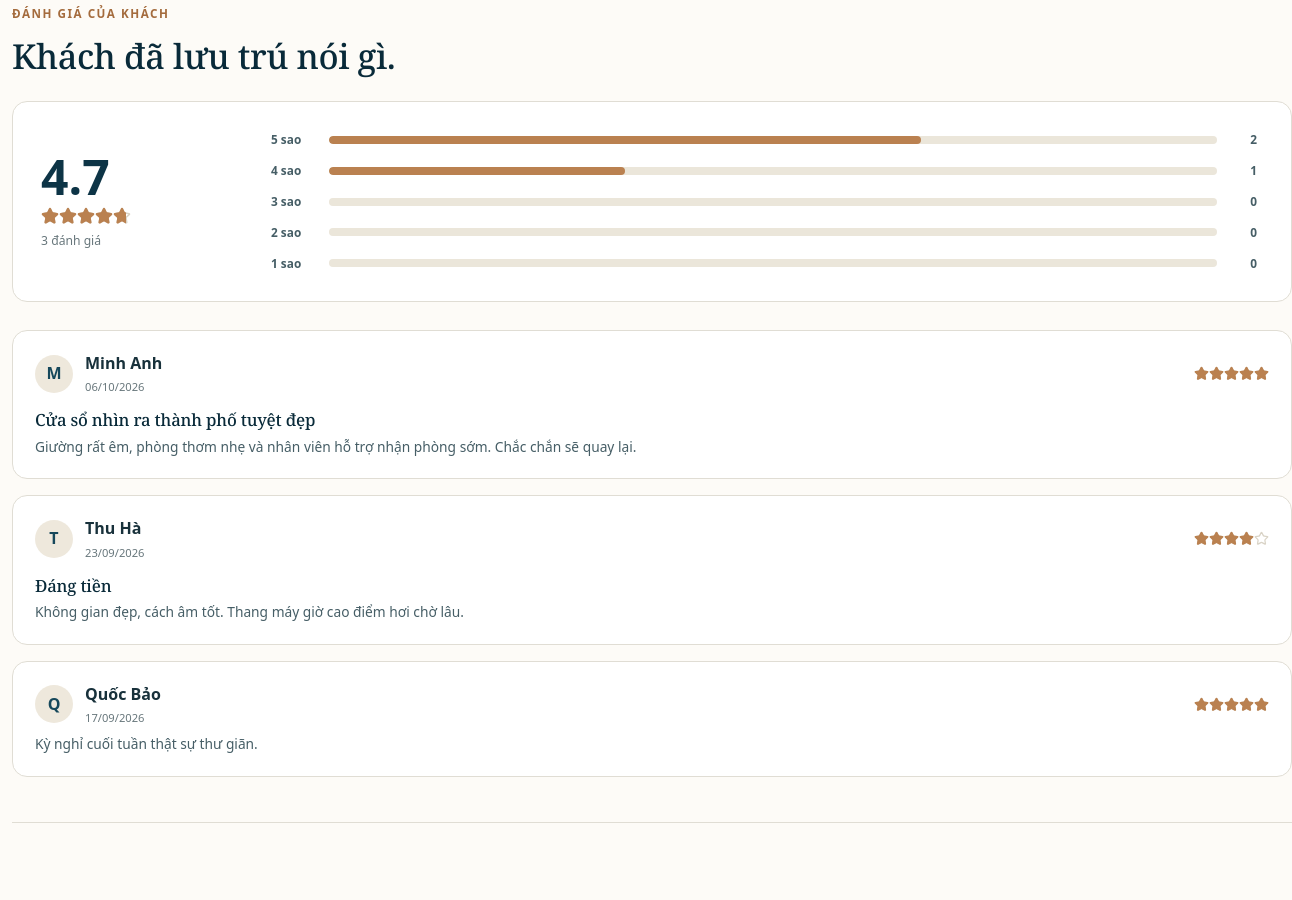
it: RoomReviews (mock API) › shows the summary, lists visible reviews and filters by star count
Expected: the heading "Cửa sổ nhìn ra thành phố tuyệt đẹp" is shown, x1=35 y1=408 x2=315 y2=431
Expected: the text "3 đánh giá" is shown, x1=41 y1=231 x2=101 y2=250
Click the button with aria-label "4 sao: 1 đánh giá". click: (764, 171)
box: x1=265 y1=157 x2=1263 y2=184
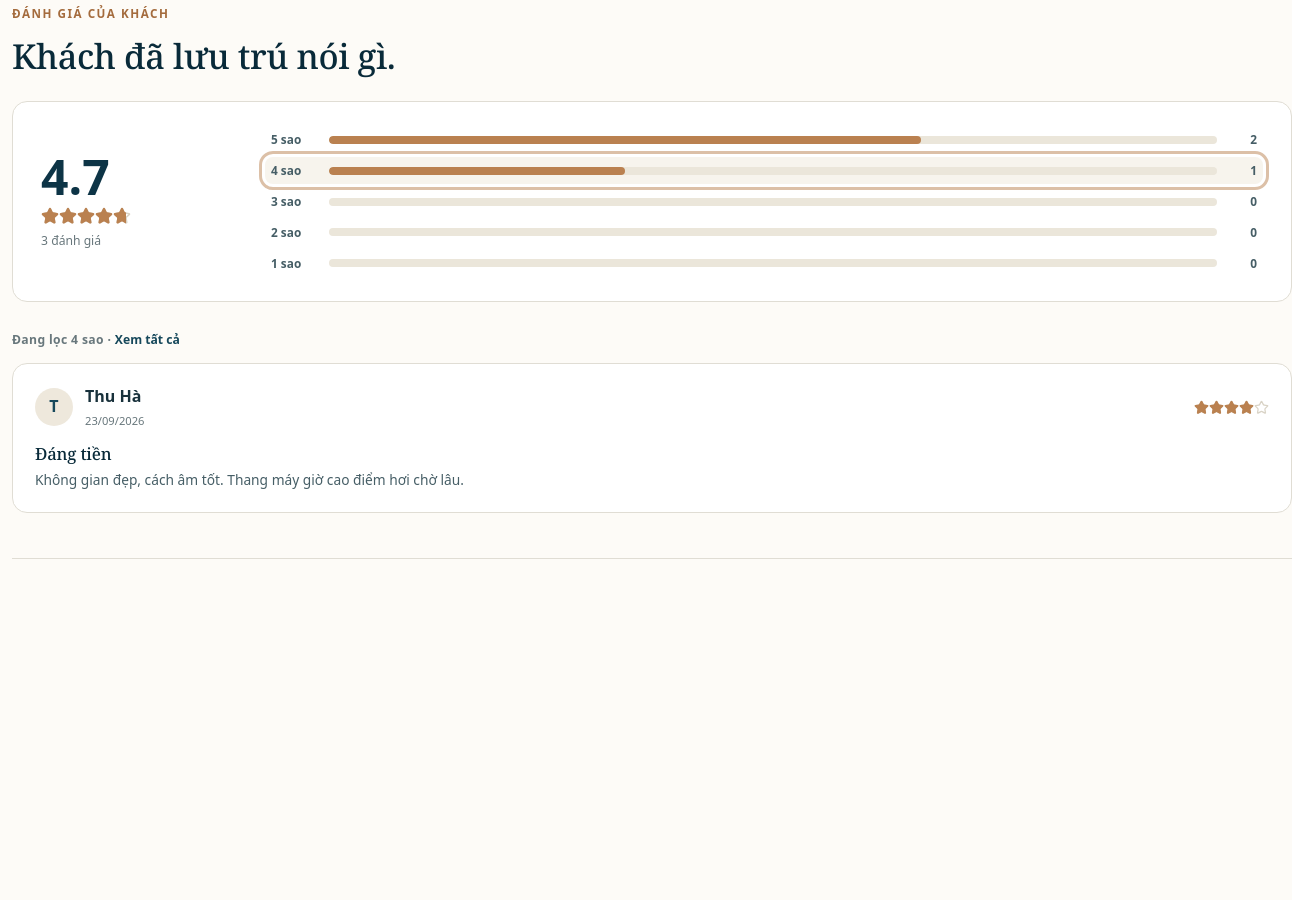
Expected: the text "Thu Hà" is shown, x1=85 y1=384 x2=144 y2=410
Expected: the text "Đang lọc 4 sao · Xem tất cả" is shown, x1=12 y1=330 x2=180 y2=349
Expected: the text "Minh Anh" is gone
Click the button "Xem tất cả". click: (147, 340)
box: x1=115 y1=330 x2=180 y2=349
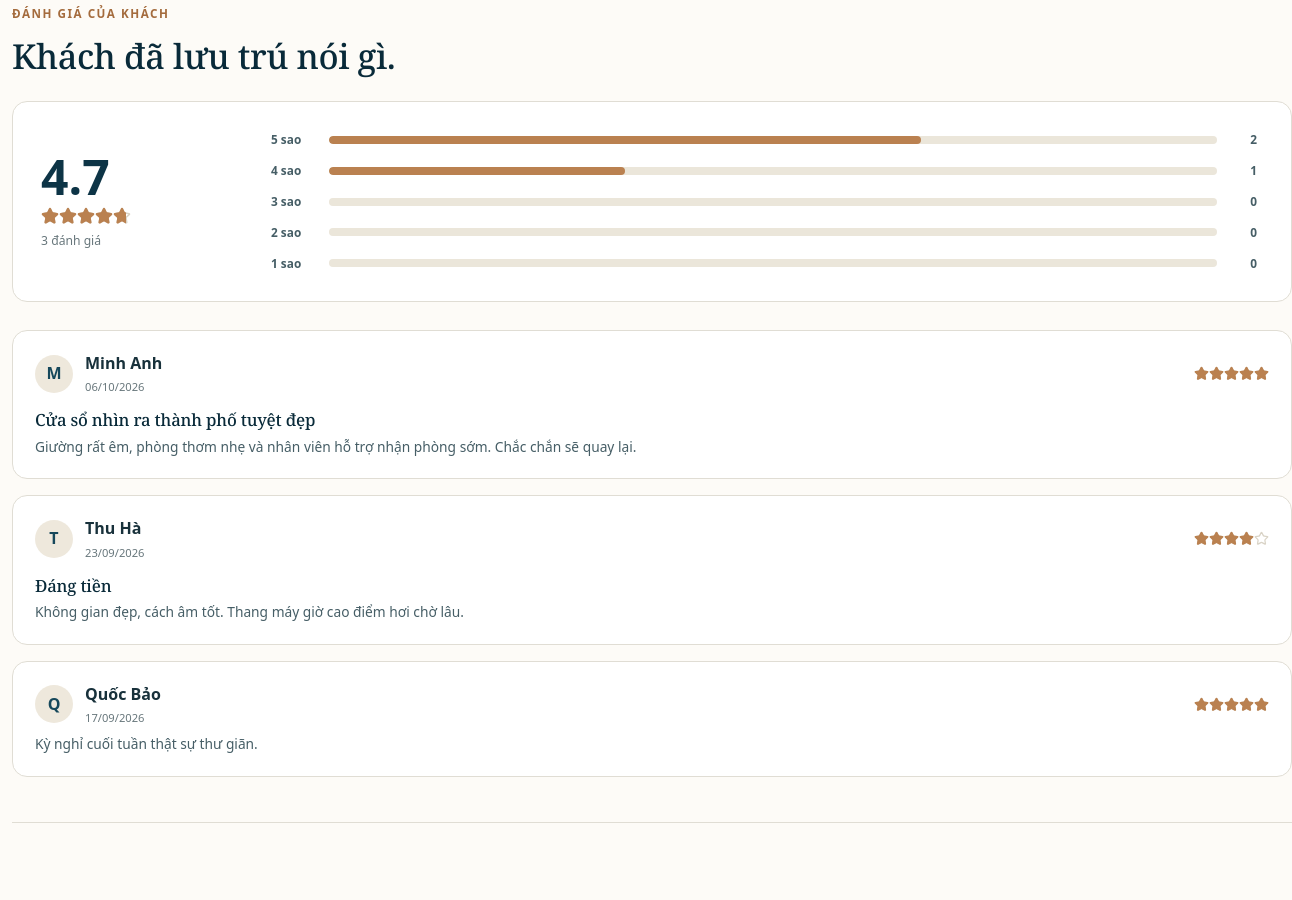
Expected: the text "Minh Anh" is shown, x1=85 y1=351 x2=162 y2=376
